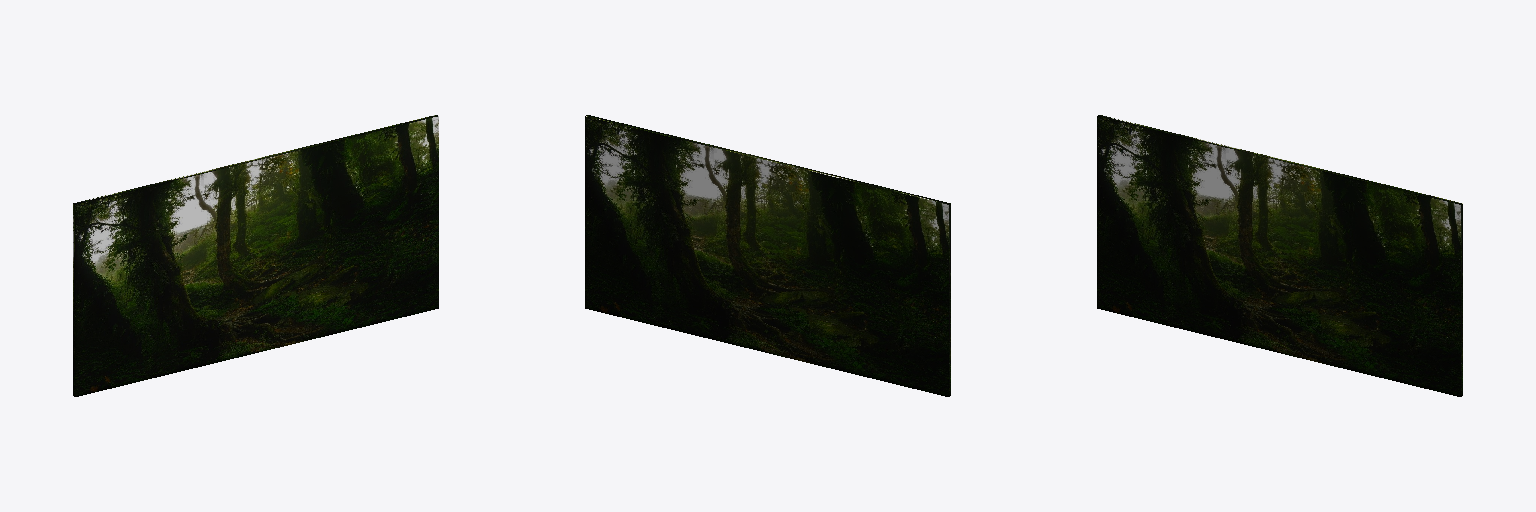
3 renders of one model, left to right at view 1: azimuth 30°, elevation 25°; view 2: azimuth 150°, elevation 25°; view 3: azimuth 330°, elevation 25°, orthographic.
Parts seen in each view (by area): view 1: cube; view 2: cube; view 3: cube.
Part boxes in pixels (x1,y1,x2,y2): cube: (73,115,438,396); cube: (585,115,950,396); cube: (1097,115,1462,396).
Bounding box in the file's own units: 100 × 50.5 × 1.
1 materials, 1 textured.